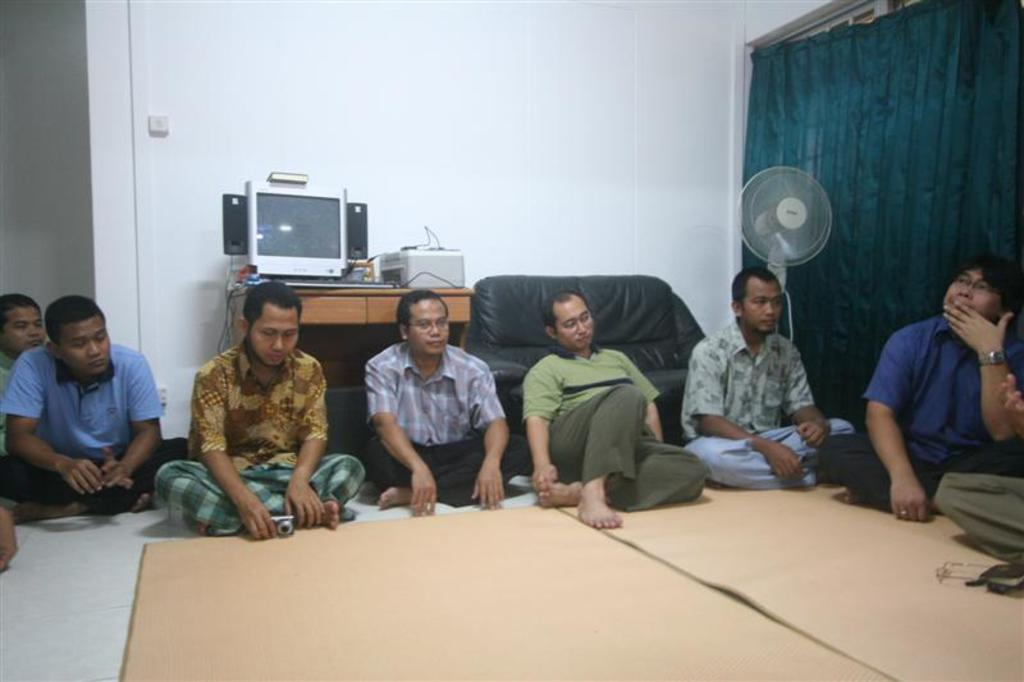Human_hand: (942, 298, 1015, 357), (888, 473, 932, 525), (282, 481, 328, 530), (55, 458, 106, 498), (470, 464, 507, 511), (239, 499, 278, 543), (992, 375, 1023, 430), (99, 447, 134, 493), (769, 443, 808, 481), (410, 470, 438, 517), (795, 420, 831, 453), (529, 463, 558, 491)
